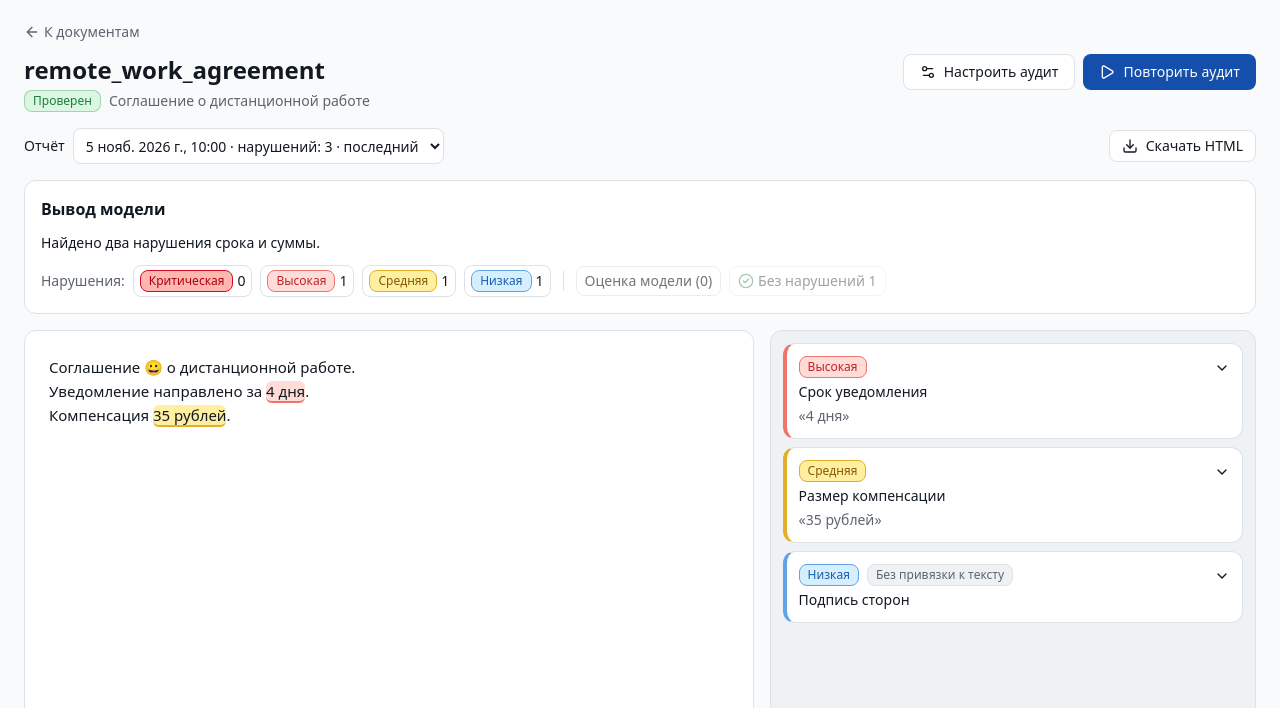
audit screen › scrolls the text to a finding chosen in the list
Step 1. Click the button "Высокая Срок уведомления «4 дня»" → (833,367), box 787,344 -> 1242,438
(page scrolled)
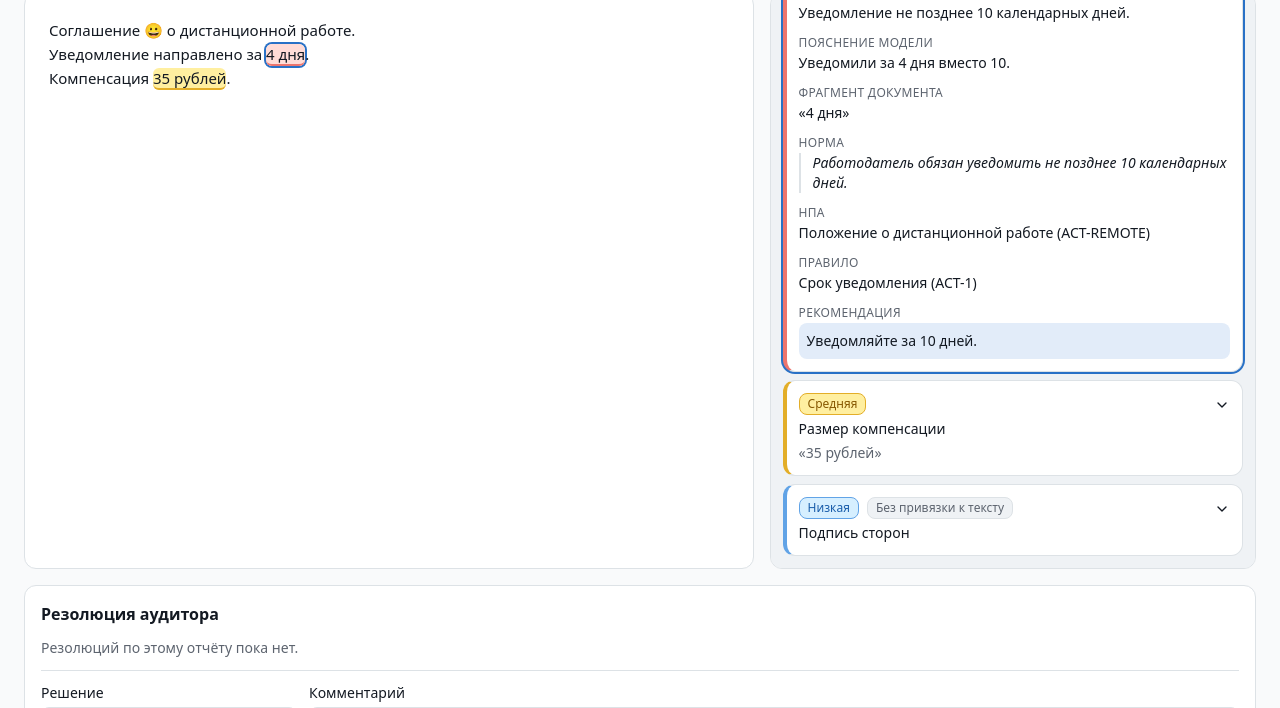
Expected: the button "4 дня" is shown, 266,44 -> 305,66
Expected: the text "Уведомляйте за 10 дней." is shown, 799,323 -> 1230,359
